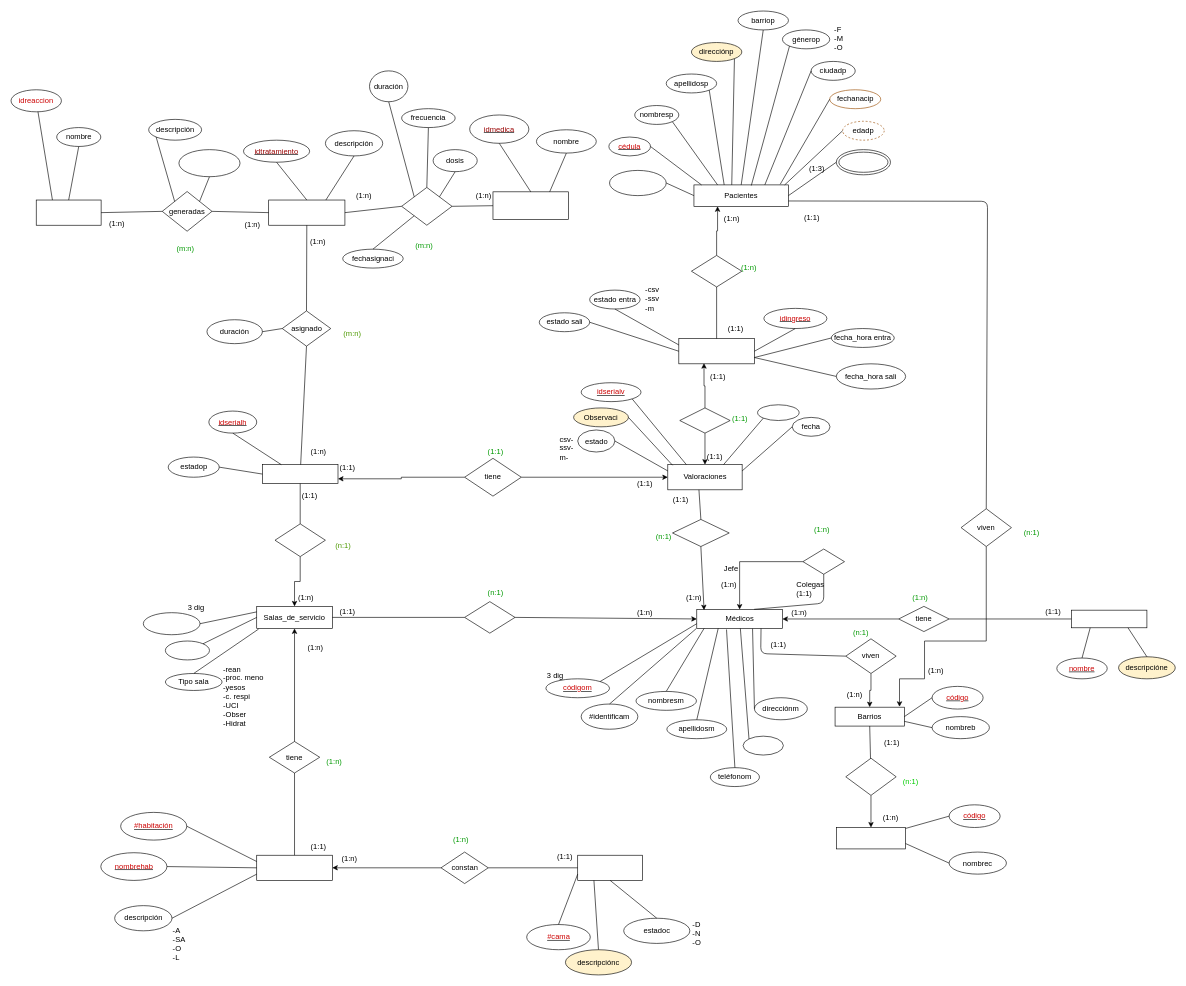
Image size: 1186x986. Some labels were removed from this diagram. The shapes that lost their labels are listed below. From the top down, each one's centre as x and y in pixels, then its label:
At point 209,163: "fecha_hora".
At point 863,162: "teléfonop".
At point 637,183: "seguro".
At point 68,212: "Reacciones".
At point 306,212: "Tratamientos".
At point 426,206: "asignan".
At point 530,205: "Medicamentos".
At point 716,271: "realizado por".
At point 716,351: "Ingresos".
At point 704,420: "se hace".
At point 778,412: "hora".
At point 300,474: "Hospitalizaciones".
At point 299,540: "asignada a".
At point 700,533: "La hace".
At point 823,561: "coordina".
At point 171,623: "códigoss".
At point 489,617: "dirigida".
At point 1109,619: "Especialidades".
At point 187,650: "piso".
At point 762,745: "email".
At point 870,776: "pertenece".
At point 871,838: "Ciudad".
At point 294,867: "Habitaciones".
At point 610,867: "Camas".
